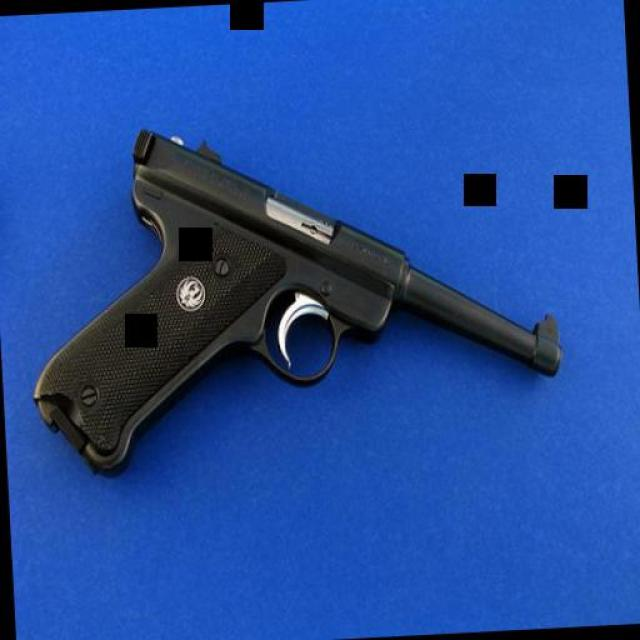gun: (16, 100, 566, 484)
